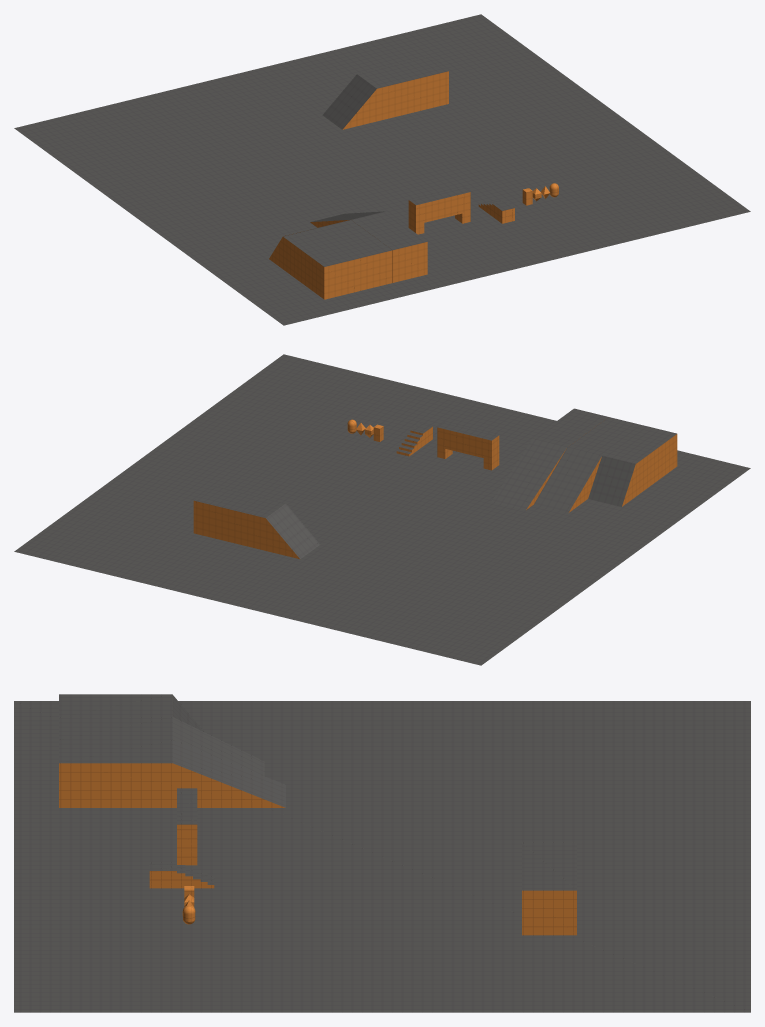
File: testing_zone.glb
3 views of the same model, one above another, from view 1: azimuth 30°, elevation 25°; view 2: azimuth 150°, elevation 25°; view 3: azimuth 270°, elevation 25° (orthographic). The views are drawn at different scales.
Visible parts, largest first — view 1: Cube.009; view 2: Cube.009; view 3: Cube.009.
Part boxes in pixels (box(x1,y1,x2,y2)): Cube.009: box(14, 14, 750, 325); Cube.009: box(14, 354, 750, 665); Cube.009: box(14, 694, 750, 1012).
Bounding box in the file's own units: 73.31 × 5.98 × 73.31.
Materials: 2 (2 with a texture image).
